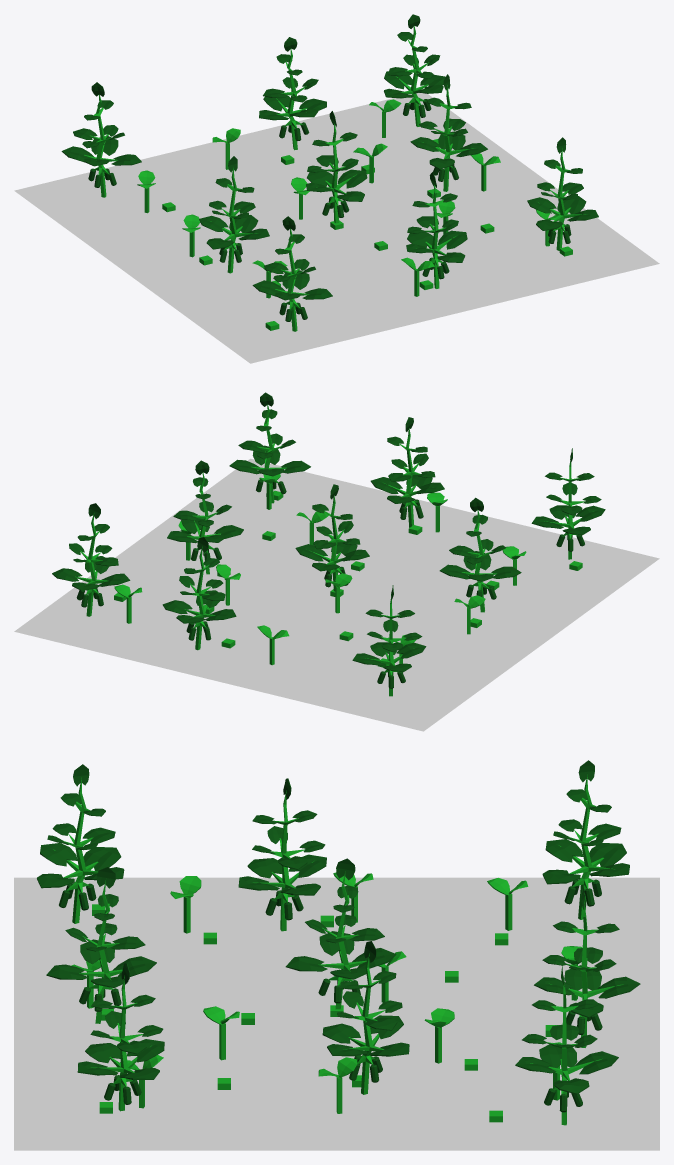
Rendered from Cucumber2.fbx.
3 renders of one model, top to bottom at view 1: azimuth 30°, elevation 25°; view 2: azimuth 150°, elevation 25°; view 3: azimuth 270°, elevation 25°, orthographic. The views are drawn at different scales.
Parts seen in each view (by area): view 1: Plane, Leaves, 2, 1; view 2: Plane, Leaves, 2, 1; view 3: Plane, Leaves, 2, 1.
Boxes of the visible parts, x1,y1,x2,y2 form: Plane: (14, 93, 659, 363); Leaves: (61, 14, 598, 331); 2: (137, 99, 559, 298); 1: (162, 139, 572, 330); Plane: (14, 458, 659, 731); Leaves: (52, 392, 605, 696); 2: (114, 474, 526, 672); 1: (114, 490, 582, 667); Plane: (14, 877, 659, 1150); Leaves: (37, 760, 640, 1125); 2: (71, 872, 582, 1113); 1: (92, 904, 558, 1122).
Size of the model in its own units: 100 by 29.43 by 100.
